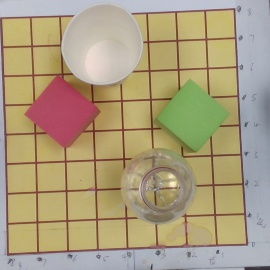bottle: (121, 148, 197, 222)
cup: (60, 3, 143, 88)
